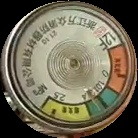green: (87, 88, 121, 120)
needle: (84, 85, 103, 113)
red: (105, 43, 131, 96)
yellow: (42, 97, 92, 127)
